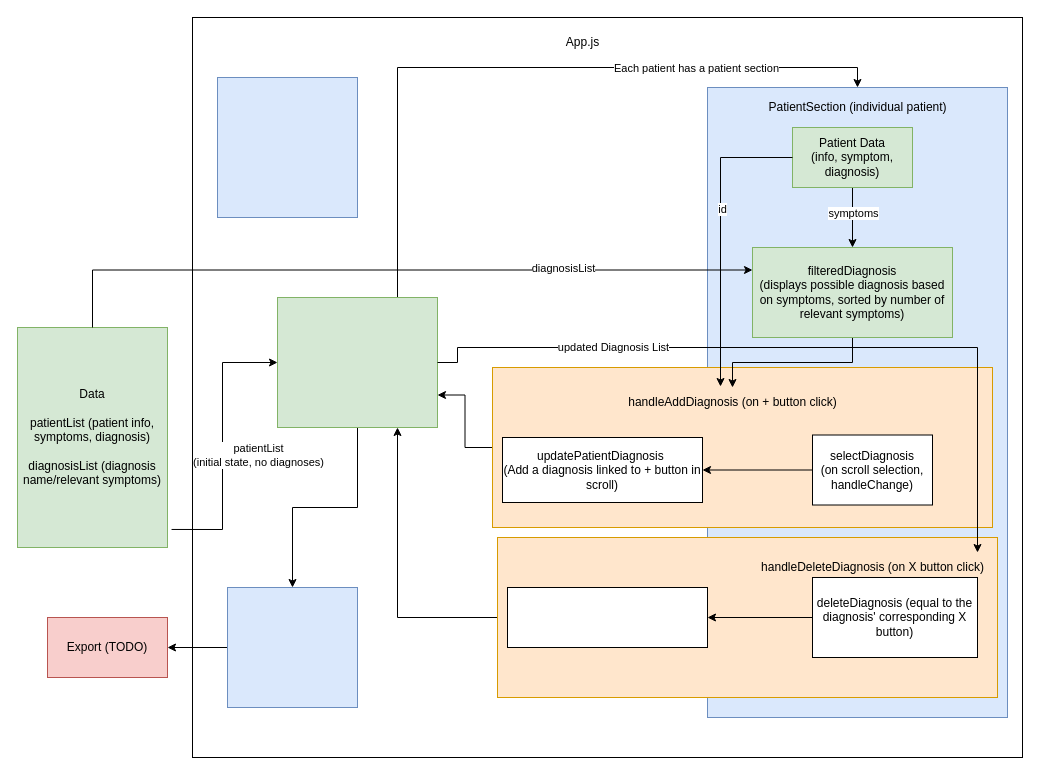
Image size: 1040x775. Some labels were removed from this diagram. The shapes that lost their labels are listed below. From the top down, each one's centre as x and y in pixels, then its label:
At point (287, 147): "Header Title Card".
At point (357, 362): "Patient Status patientList with updated diagnosis".
At point (607, 617): "deletePatientDiagnosis (Remove a diagnosis linked to X button)".
At point (292, 647): "SubmitSection TODO: Store updated diagnosis or changelog in CSV format".
